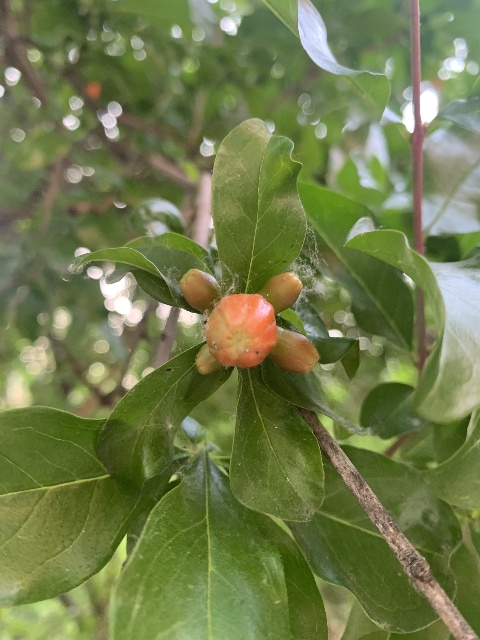bud: (206, 293, 278, 367), (265, 325, 319, 373), (255, 272, 303, 315), (179, 268, 222, 315), (193, 343, 221, 374)
